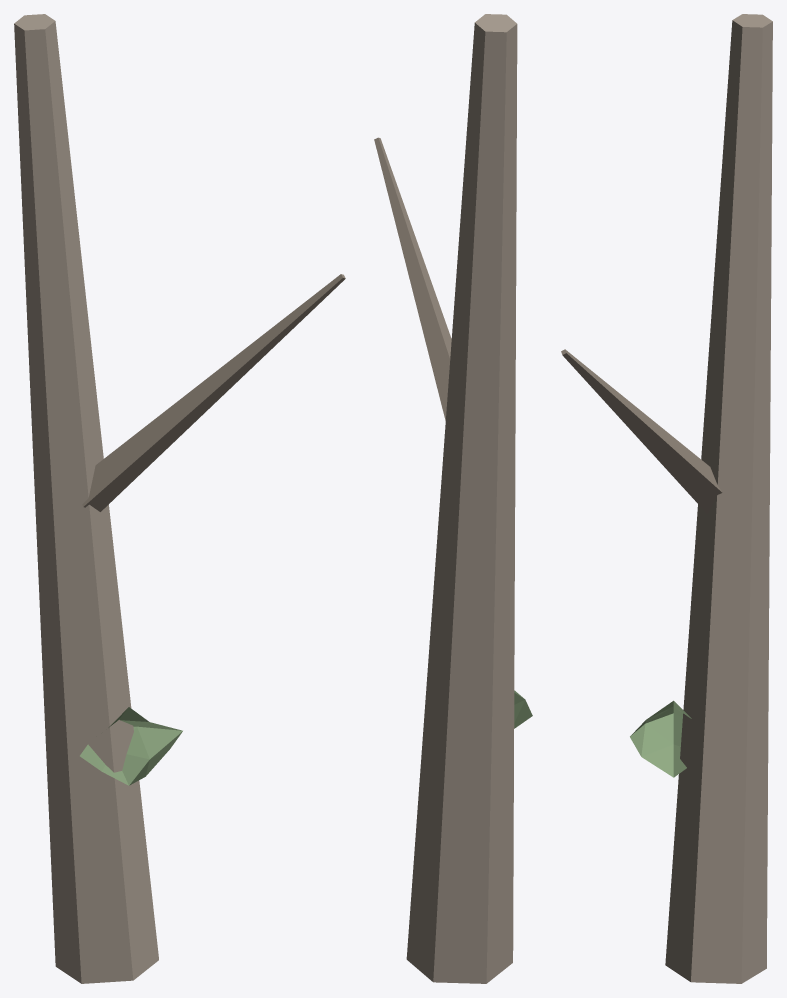
Rendered from snag_v20.glb.
The picture shows the model from 3 angles, left to right: view 1: azimuth 30°, elevation 25°; view 2: azimuth 150°, elevation 25°; view 3: azimuth 270°, elevation 25°; orthographic projection. The views are drawn at different scales.
Visible parts, largest first — view 1: lod0; view 2: lod0; view 3: lod0.
Boxes of the visible parts, <box> form: lod0: <box>14,14,345,983</box>; lod0: <box>374,14,532,983</box>; lod0: <box>561,14,772,983</box>.
Size of what is drawn, in the model's own units: 0.6127 by 2.41 by 0.5008.
